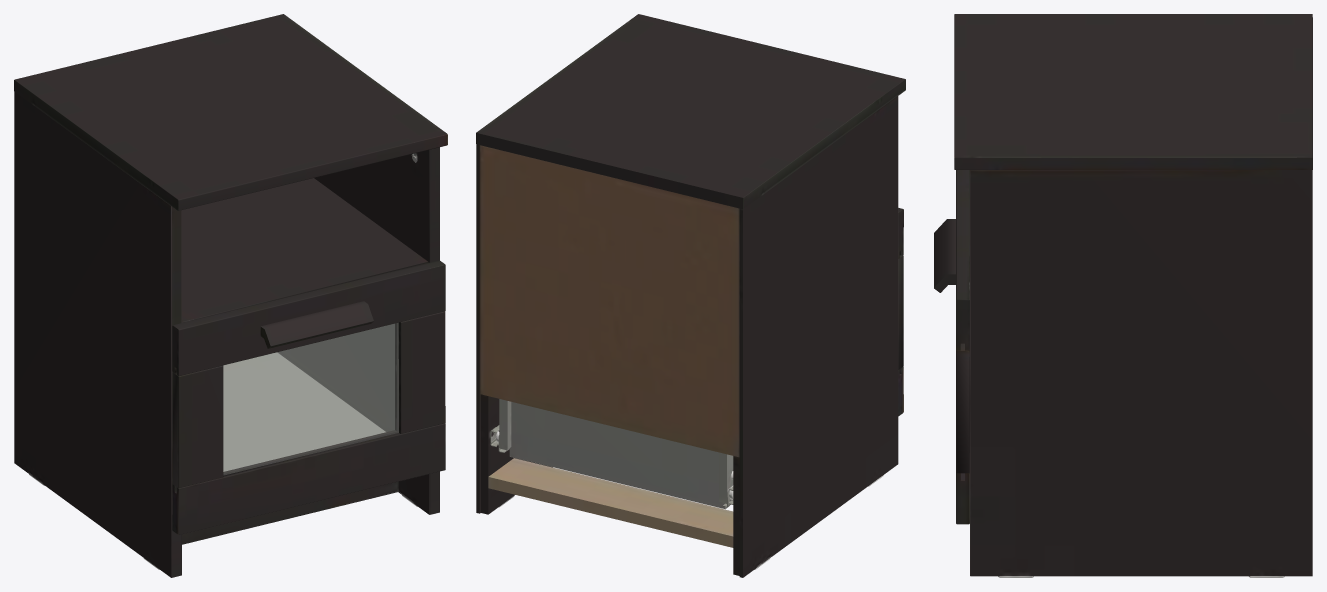
3 renders of one model, left to right at view 1: azimuth 30°, elevation 25°; view 2: azimuth 150°, elevation 25°; view 3: azimuth 270°, elevation 25°, orthographic. The views are drawn at different scales.
Size of the model in its own units: 0.391 by 0.534 by 0.4351.
2 materials, 2 textured.
